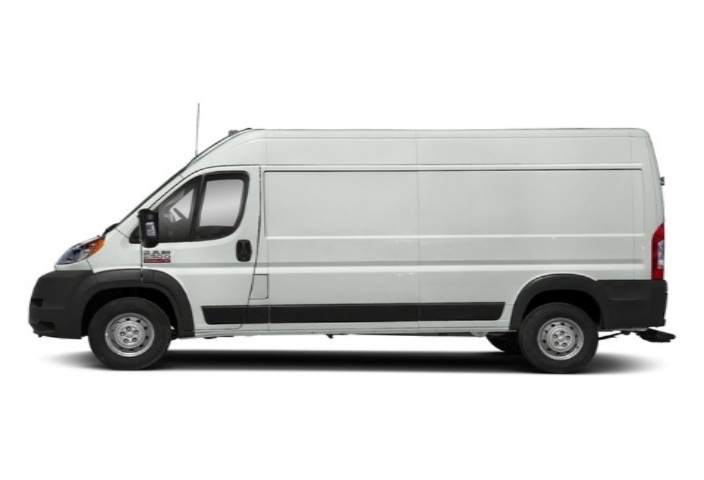van: (11, 106, 685, 392)
